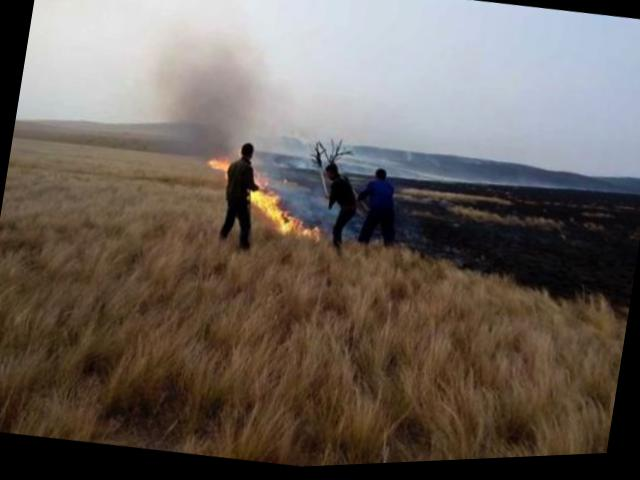fire: (197, 141, 330, 254)
